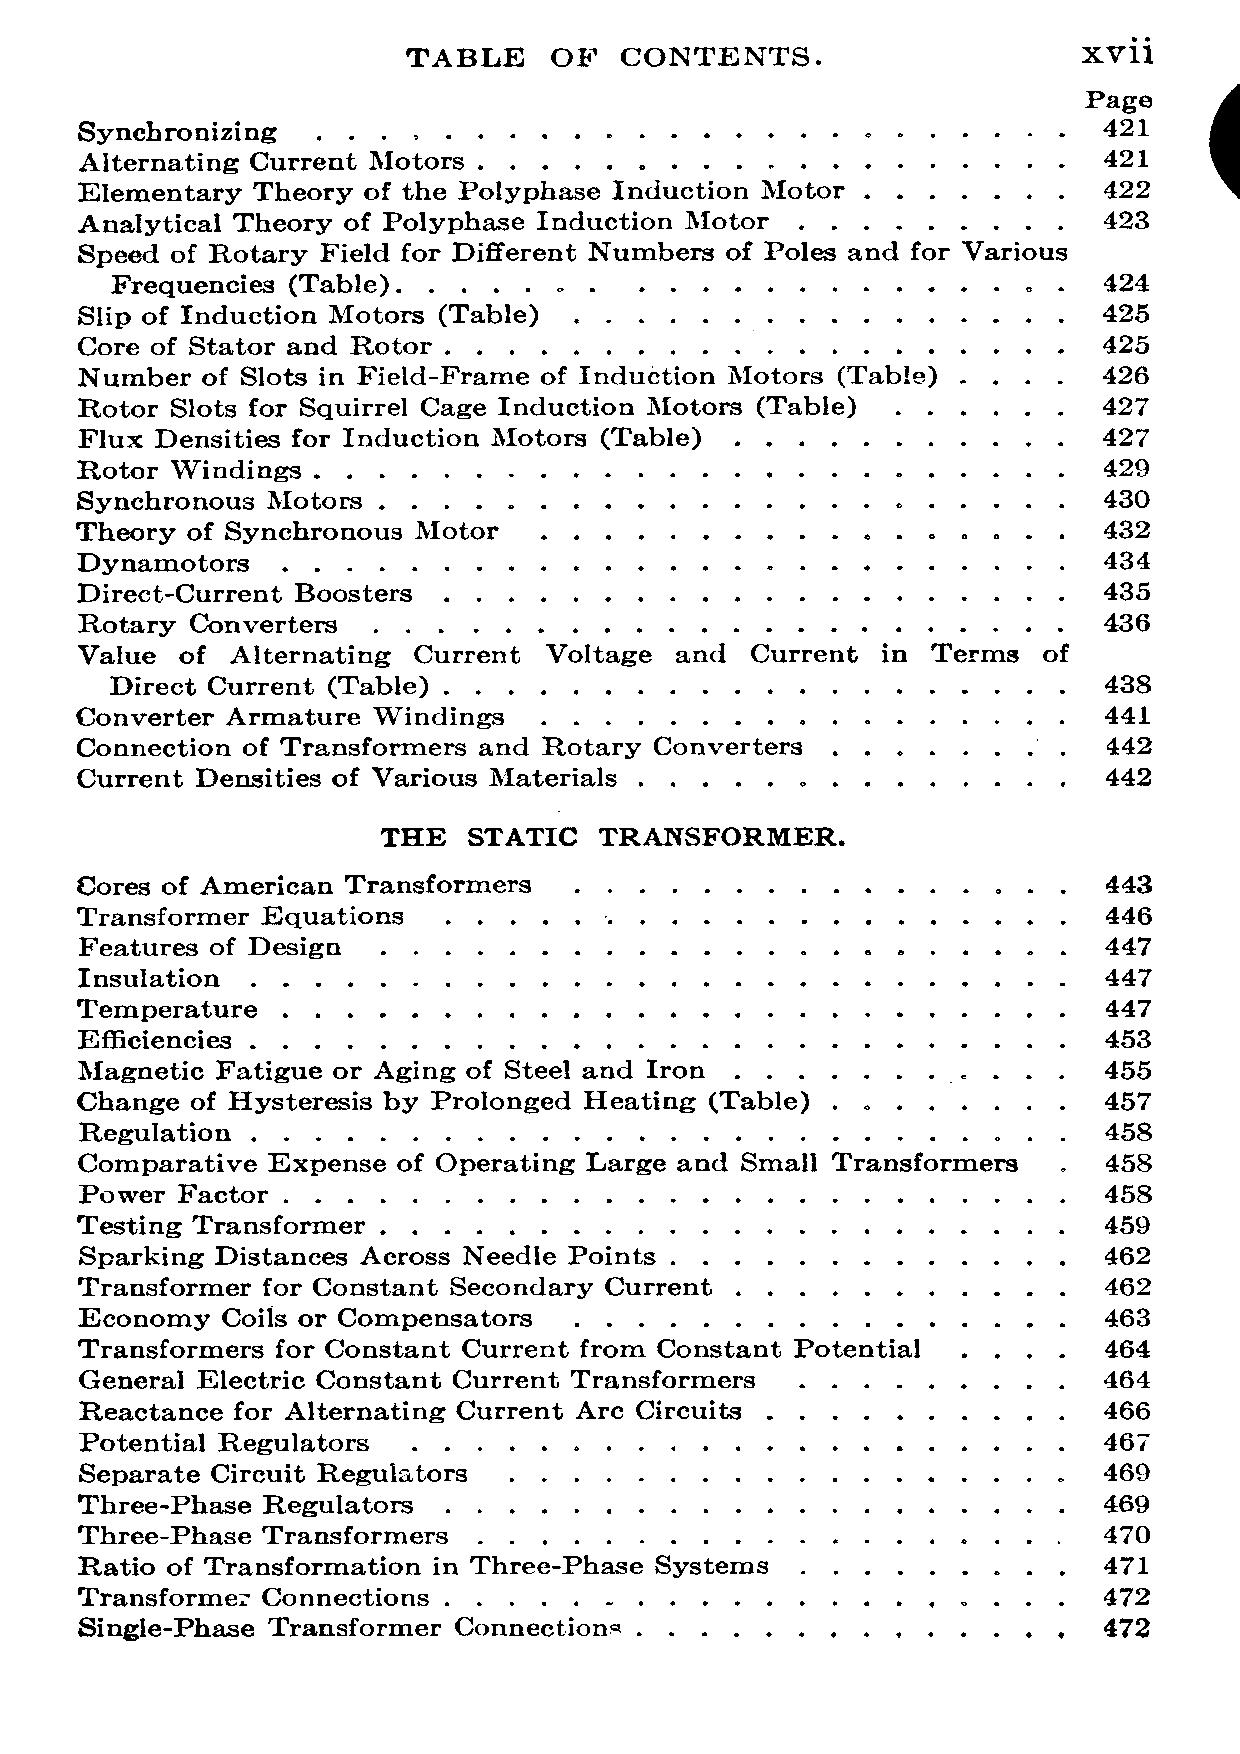TOC_chapter: (72, 238, 1076, 298), (75, 641, 1076, 698), (72, 1149, 1020, 1176), (72, 1334, 925, 1363), (71, 391, 860, 421), (70, 1549, 776, 1582), (72, 178, 854, 207), (71, 207, 774, 238), (72, 365, 938, 389), (74, 1396, 743, 1427), (74, 735, 807, 764), (76, 1088, 812, 1114), (72, 1274, 721, 1302), (75, 425, 709, 454), (72, 862, 537, 899), (76, 1057, 706, 1084), (71, 1241, 660, 1270), (72, 1368, 760, 1392), (78, 1614, 625, 1643), (376, 821, 845, 852), (74, 765, 620, 790), (72, 299, 539, 329), (72, 701, 513, 730), (74, 1304, 535, 1330), (74, 519, 502, 545), (74, 331, 433, 361), (72, 578, 416, 608), (75, 1491, 416, 1520), (76, 148, 466, 173), (76, 1460, 475, 1484), (74, 1585, 433, 1610), (74, 1523, 450, 1547), (71, 903, 407, 930), (67, 484, 362, 513), (72, 109, 286, 145), (75, 1429, 373, 1455), (75, 931, 344, 960), (74, 1212, 370, 1236), (74, 611, 338, 637), (72, 458, 305, 484), (72, 1180, 270, 1208), (72, 996, 260, 1025), (74, 546, 254, 574), (74, 1118, 234, 1146), (75, 1027, 234, 1052), (74, 964, 223, 990)
TOC_pagenumber: (1100, 484, 1154, 513), (1102, 110, 1151, 140), (1102, 141, 1151, 170), (1103, 1581, 1153, 1610), (1102, 992, 1155, 1019), (1102, 1180, 1155, 1206), (1100, 1243, 1154, 1270), (1099, 868, 1155, 894), (1099, 360, 1151, 386), (1104, 900, 1157, 927), (1100, 962, 1153, 989), (1106, 762, 1155, 790), (1100, 268, 1151, 295), (1096, 424, 1150, 450), (1100, 1304, 1151, 1331), (1104, 1055, 1153, 1083), (1099, 1456, 1151, 1482), (1099, 391, 1149, 417), (1100, 1398, 1150, 1425), (1106, 931, 1153, 960), (1100, 701, 1151, 726), (1104, 1520, 1155, 1546), (1103, 1551, 1151, 1578), (1103, 1338, 1153, 1363), (1103, 1121, 1155, 1145), (1103, 1368, 1155, 1392), (1104, 670, 1151, 697), (1103, 331, 1151, 357), (1102, 578, 1153, 603), (1103, 733, 1154, 757), (1100, 1151, 1151, 1176), (1102, 1088, 1151, 1113), (1104, 1275, 1154, 1299), (1103, 548, 1150, 573), (1104, 1024, 1151, 1049), (1103, 208, 1151, 232), (1103, 609, 1151, 633), (1100, 455, 1151, 478), (1102, 1215, 1153, 1237), (1100, 1431, 1151, 1453), (1100, 1494, 1151, 1516), (1103, 301, 1150, 325), (1103, 518, 1155, 539), (1104, 178, 1151, 200), (1103, 1618, 1151, 1639)
chapter: (396, 43, 825, 76)
